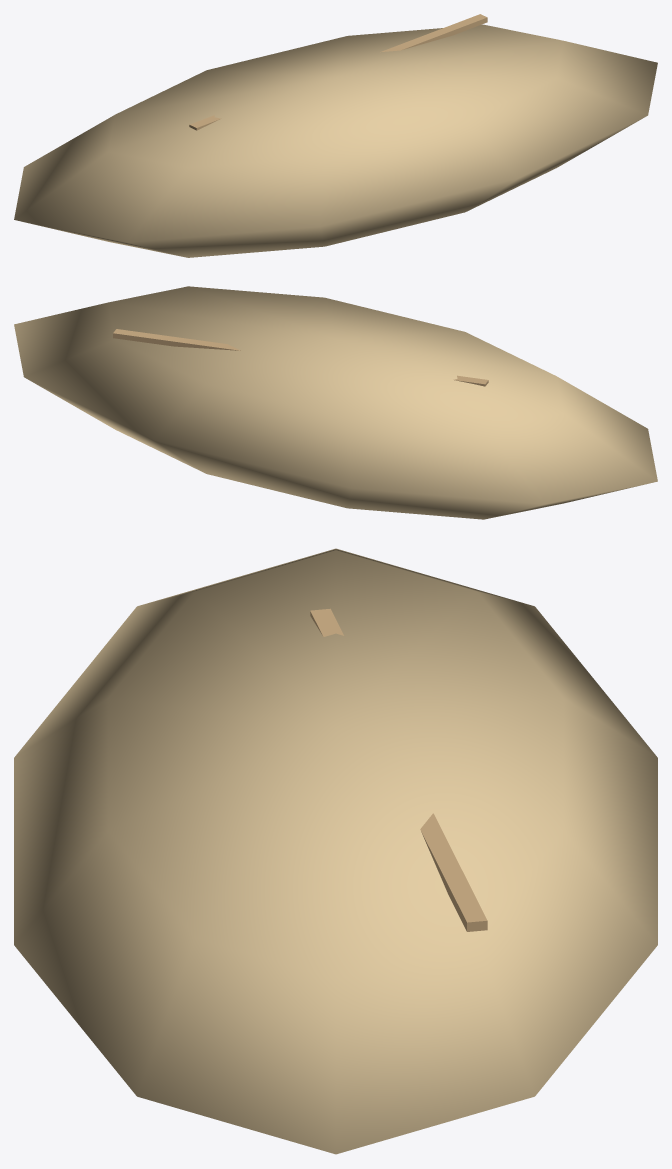
The model's file is sand_dune.glb.
3 renders of one model, top to bottom at view 1: azimuth 30°, elevation 25°; view 2: azimuth 150°, elevation 25°; view 3: azimuth 270°, elevation 25°, orthographic. The views are drawn at different scales.
Visible parts, largest first — view 1: sand_dune; view 2: sand_dune; view 3: sand_dune.
Part boxes in pixels (bbox=[...]): sand_dune: bbox=[14, 14, 657, 257]; sand_dune: bbox=[14, 286, 657, 519]; sand_dune: bbox=[14, 548, 657, 1154].
Size of the model in its own units: 3.42 by 0.646 by 1.54.
